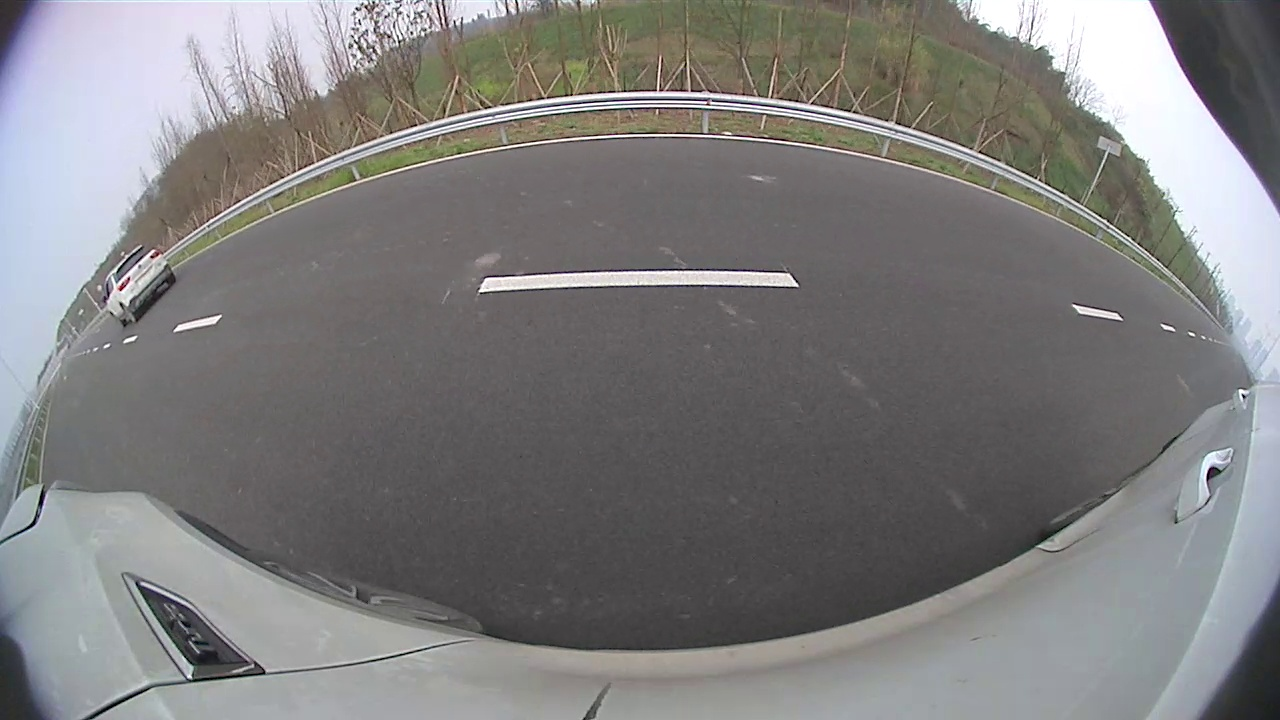car: (702, 145, 786, 201)
front: (702, 172, 713, 194)
rear: (720, 172, 734, 199)
